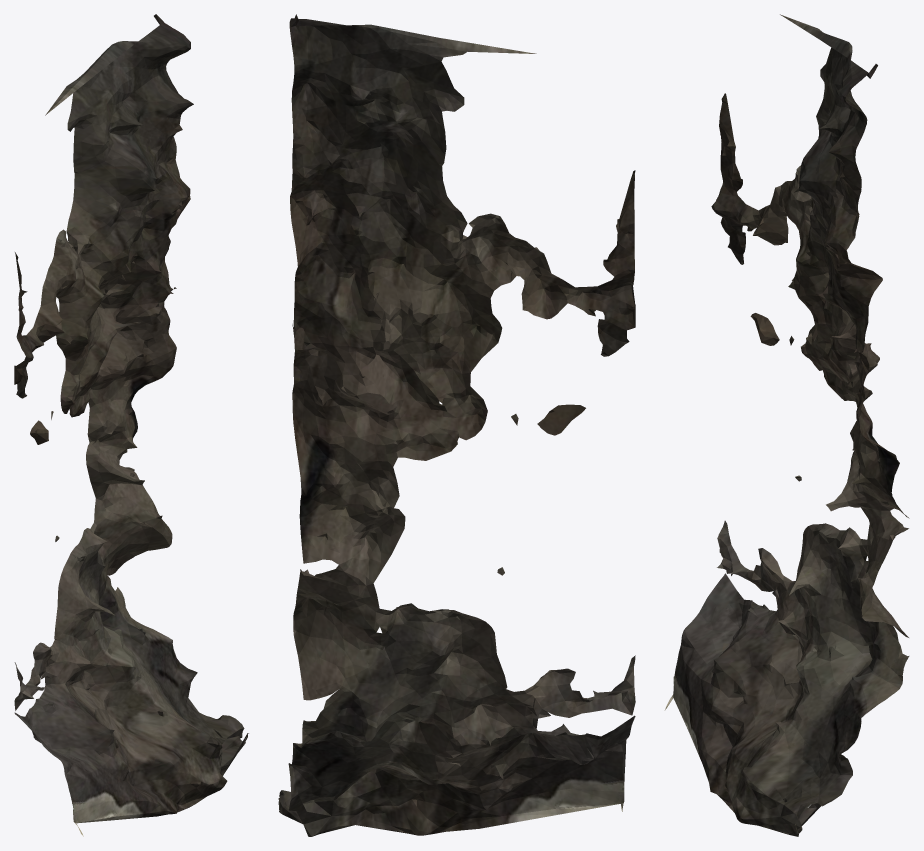
File: tile_7_5.obj
3 views of the same model, side by side, from view 1: azimuth 30°, elevation 25°; view 2: azimuth 150°, elevation 25°; view 3: azimuth 270°, elevation 25° (orthographic). The views are drawn at different scales.
Parts seen in each view (by area): view 1: texture_0; view 2: texture_0; view 3: texture_0.
Part boxes in pixels (left/top/right/bottom): texture_0: left=14, top=14, right=248, bottom=836; texture_0: left=278, top=14, right=635, bottom=836; texture_0: left=664, top=14, right=909, bottom=836.
Bounding box in the file's own units: 0.2747 × 0.7184 × 0.2086.
1 material, 1 textured.
